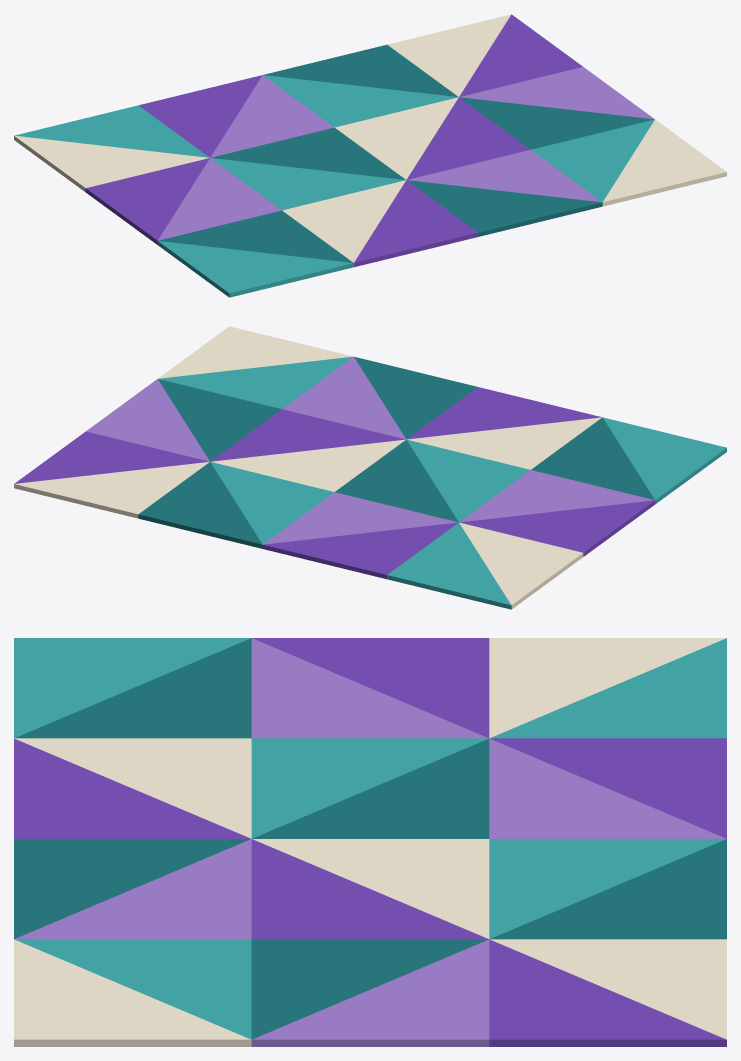
The model's file is arcade_rug.glb.
3 views of the same model, one above another, from view 1: azimuth 30°, elevation 25°; view 2: azimuth 150°, elevation 25°; view 3: azimuth 270°, elevation 25° (orthographic). The views are drawn at different scales.
Parts seen in each view (by area): view 1: arcade_rug; view 2: arcade_rug; view 3: arcade_rug.
Part boxes in pixels (left/top/right/bottom): arcade_rug: left=14, top=14, right=726, bottom=297; arcade_rug: left=14, top=326, right=726, bottom=609; arcade_rug: left=14, top=638, right=726, bottom=1046.
Size of the model in its own units: 2.4 by 0.02 by 1.8.
